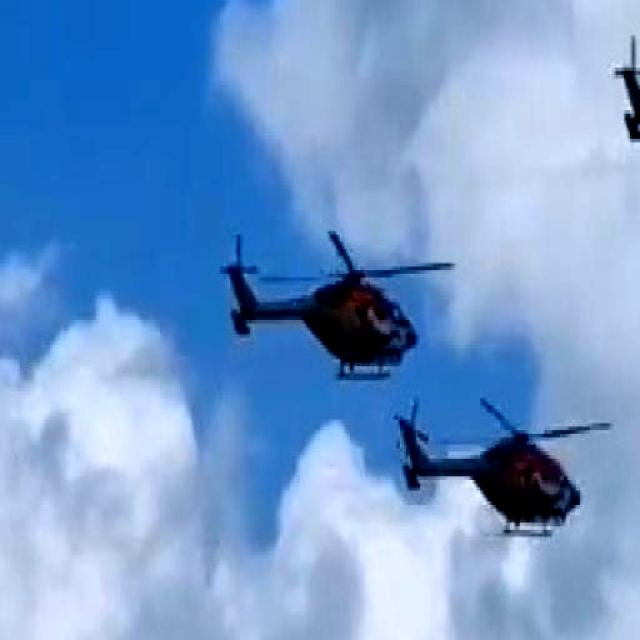drone: (218, 214, 464, 369), (388, 389, 616, 540)
